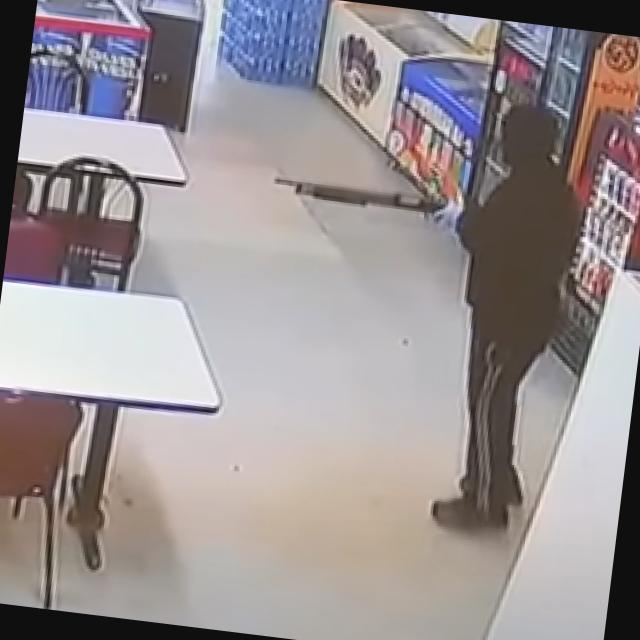person: (394, 88, 600, 540)
